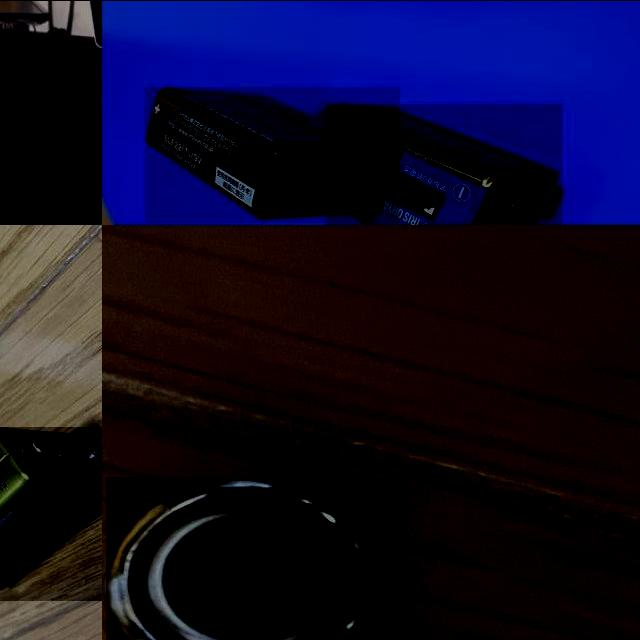9V: (145, 85, 400, 221), (326, 103, 562, 224), (0, 426, 102, 600)
